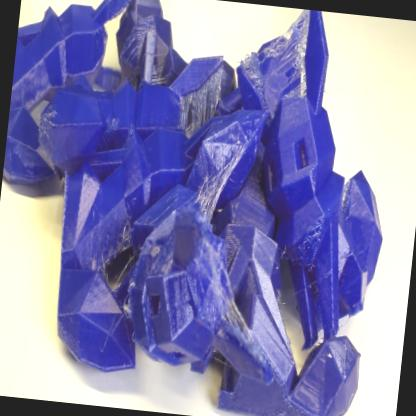fail: (249, 9, 311, 106), (176, 66, 222, 148), (195, 159, 233, 220)
